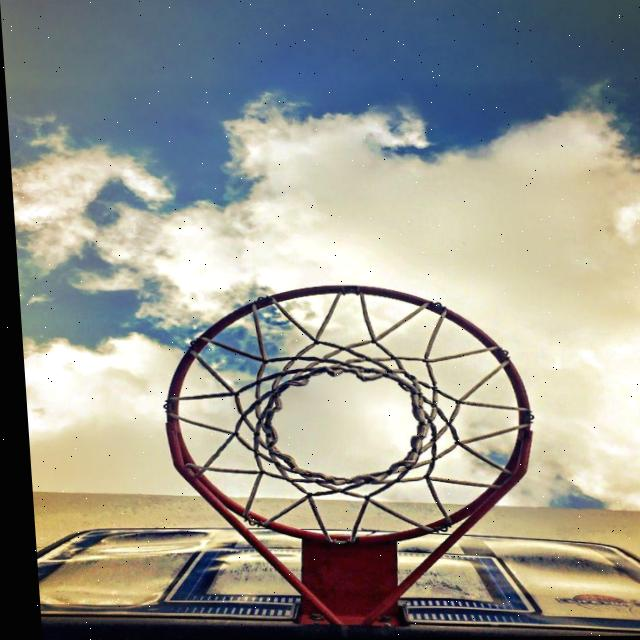hoop: (169, 275, 558, 593)
